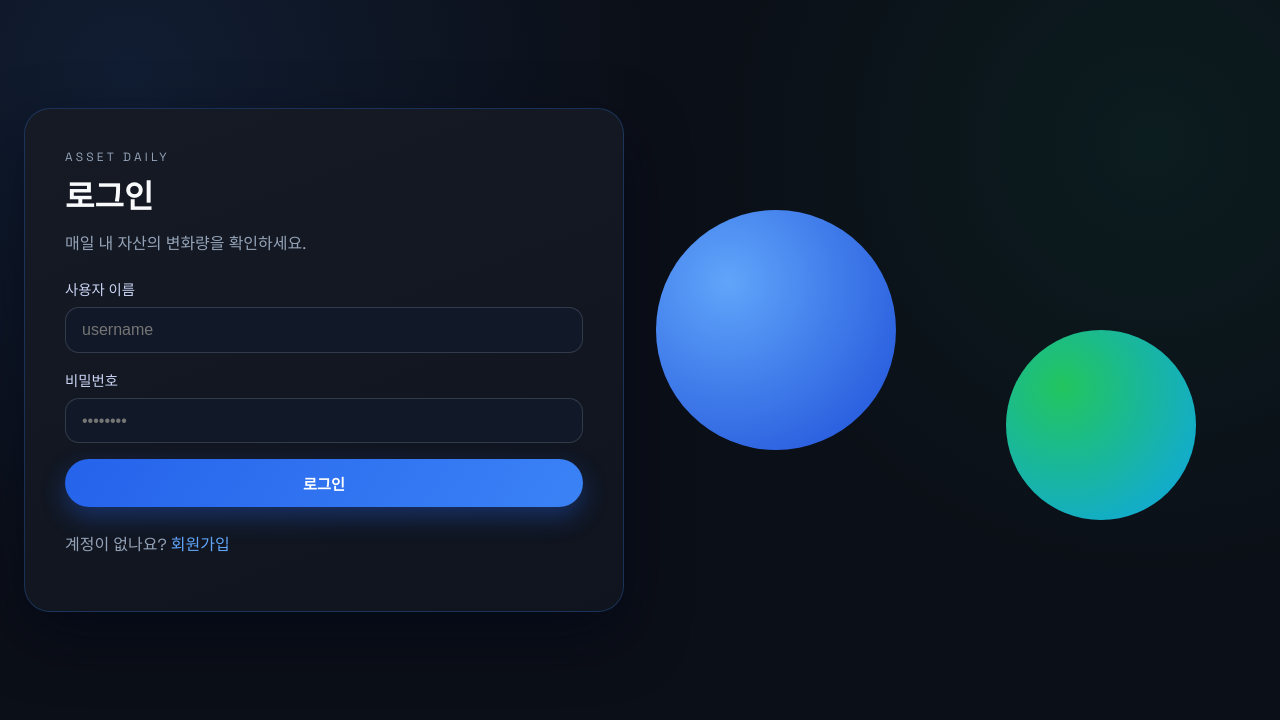
shows login error message when login fails
In the field labelled "사용자 이름": coordinates (324, 330) [65,307,583,353], type "test"
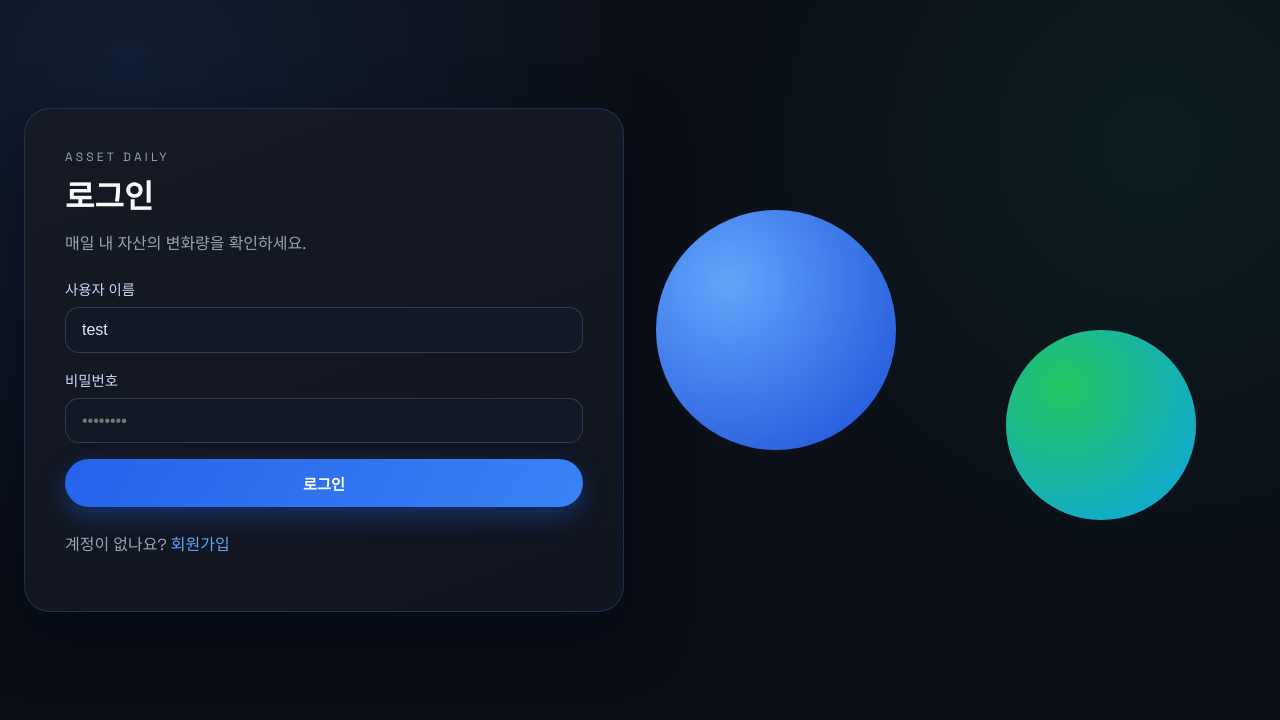
In the password field labelled "비밀번호": coordinates (324, 421) [65,398,583,443], type "test"
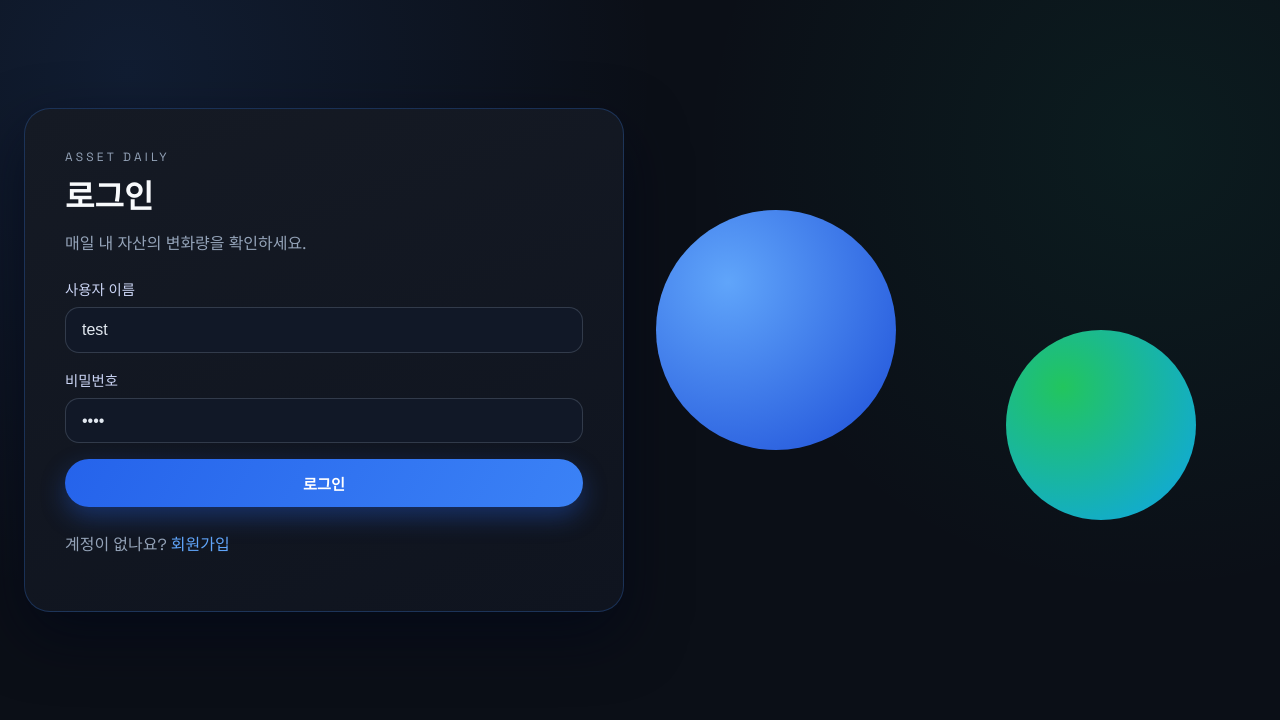
Click the button "로그인": coordinates (324, 483) [65,459,583,507]
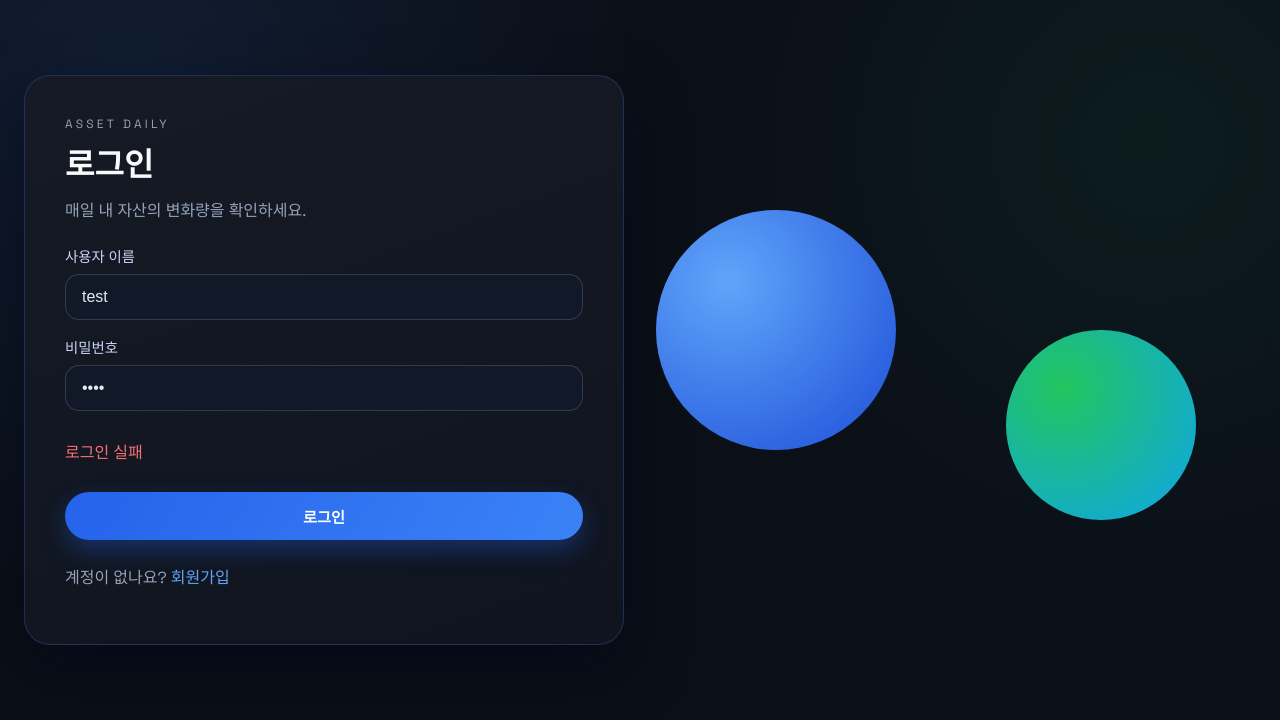
Result: the text "로그인 실패" is shown at [65,442,143,463]
